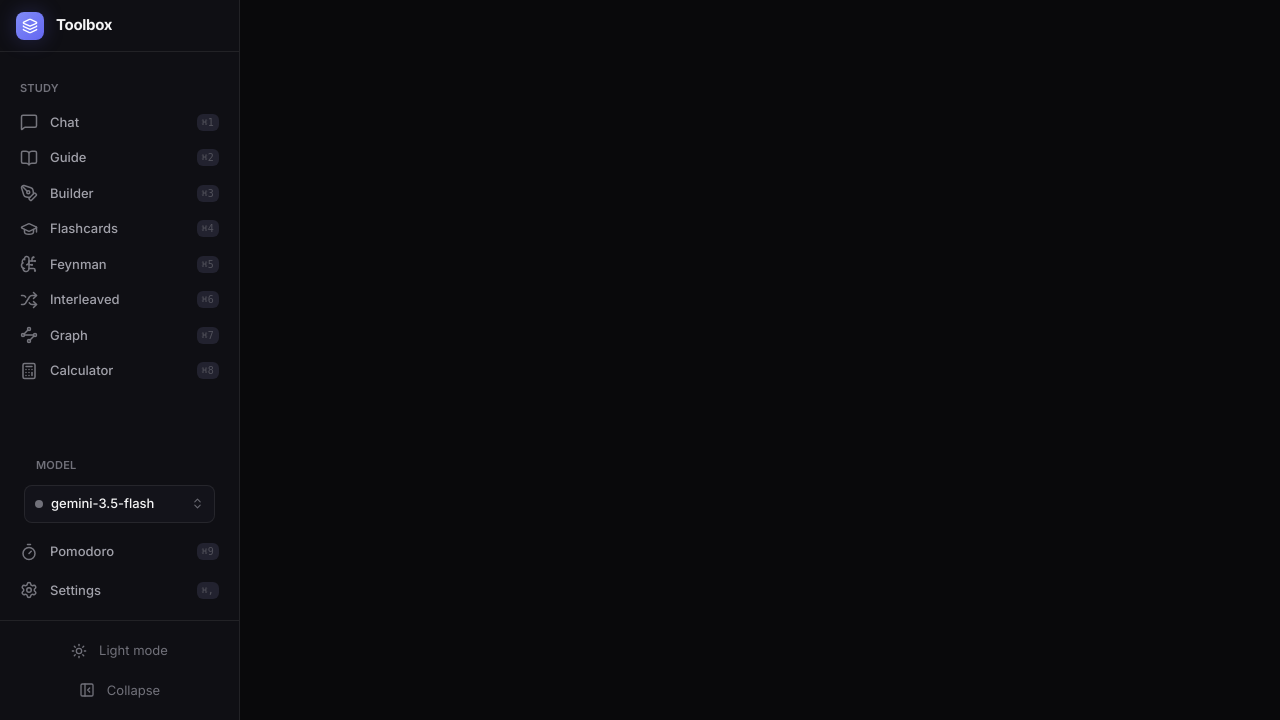
Scenario: sidebar — model picker › guides the user to Settings when no models are configured
This screenshot has width=1280, height=720.
What coordinates should you click on to do the following:
click the button with id "model-picker-trigger"
I would click on:
 (120, 504)
Its box is [24,485,215,522].
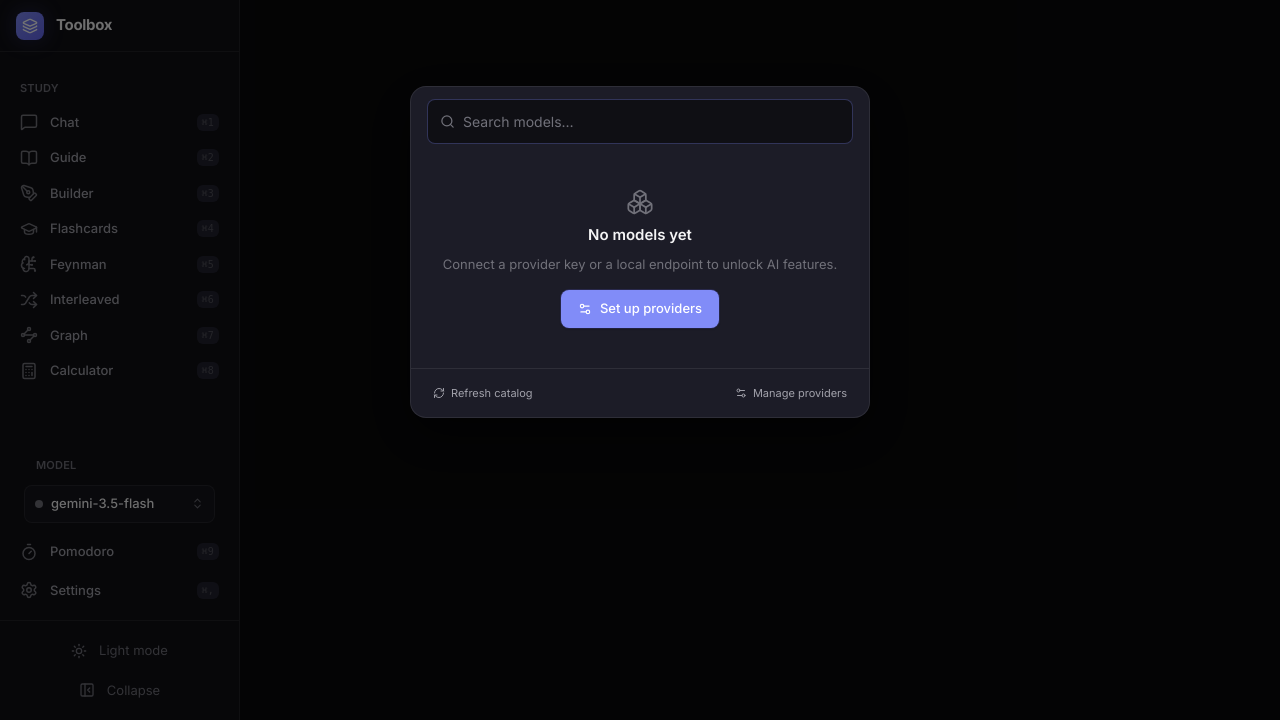
Now the text "No models yet" is shown, box [588,224,692,247]
Now the button "Set up providers" is shown, box [561,290,719,328]
